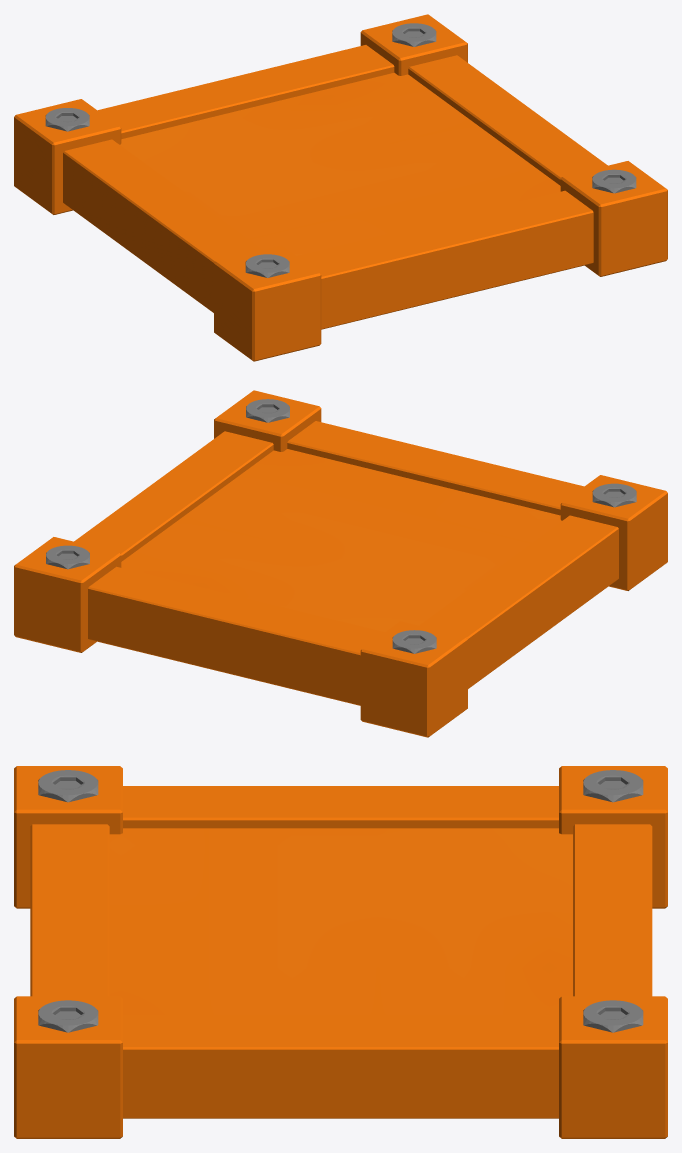
The model's file is SquareFramedPlatformYellow.fbx.
The picture shows the model from 3 angles, top to bottom: view 1: azimuth 30°, elevation 25°; view 2: azimuth 150°, elevation 25°; view 3: azimuth 270°, elevation 25°; orthographic projection. The views are drawn at different scales.
Visible parts, largest first — view 1: Cube, Cube.001; view 2: Cube, Cube.001; view 3: Cube, Cube.001.
Part boxes in pixels (x1,y1,x2,y2): Cube: (14,14,667,361); Cube.001: (45,23,636,277); Cube: (14,390,667,737); Cube.001: (46,399,636,653); Cube: (14,766,667,1138); Cube.001: (38,770,643,1032).
Size of the model in its own units: 6 by 1.05 by 6.
